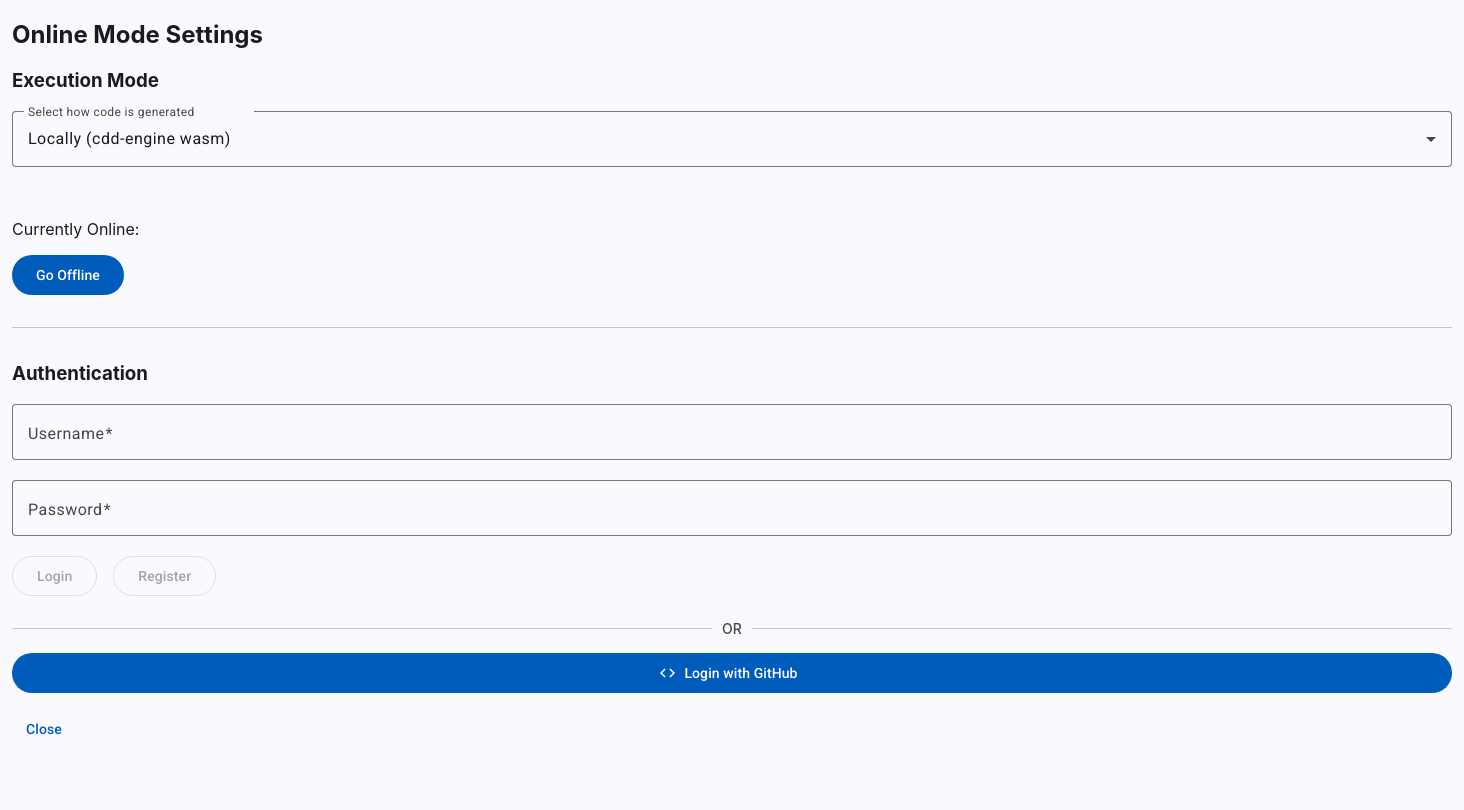
Test: OnlineSettingsComponent › should handle github login success
What coordinates should you click on to do the following:
click the button with class "github-btn"
I would click on:
 (732, 673)
Its box is x1=12 y1=653 x2=1452 y2=693.
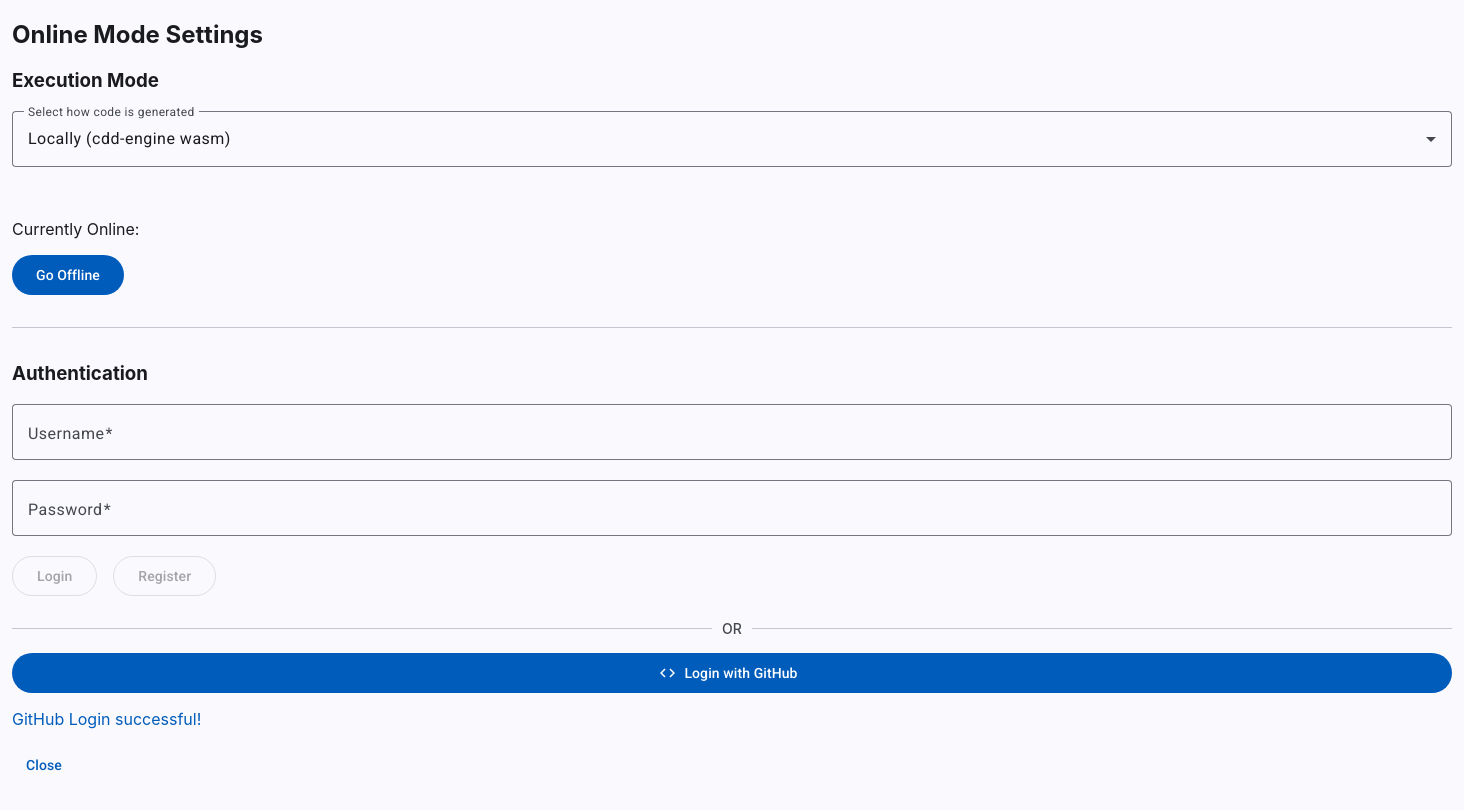
Now the message "GitHub Login successful!" is shown, box x1=12 y1=709 x2=201 y2=729
